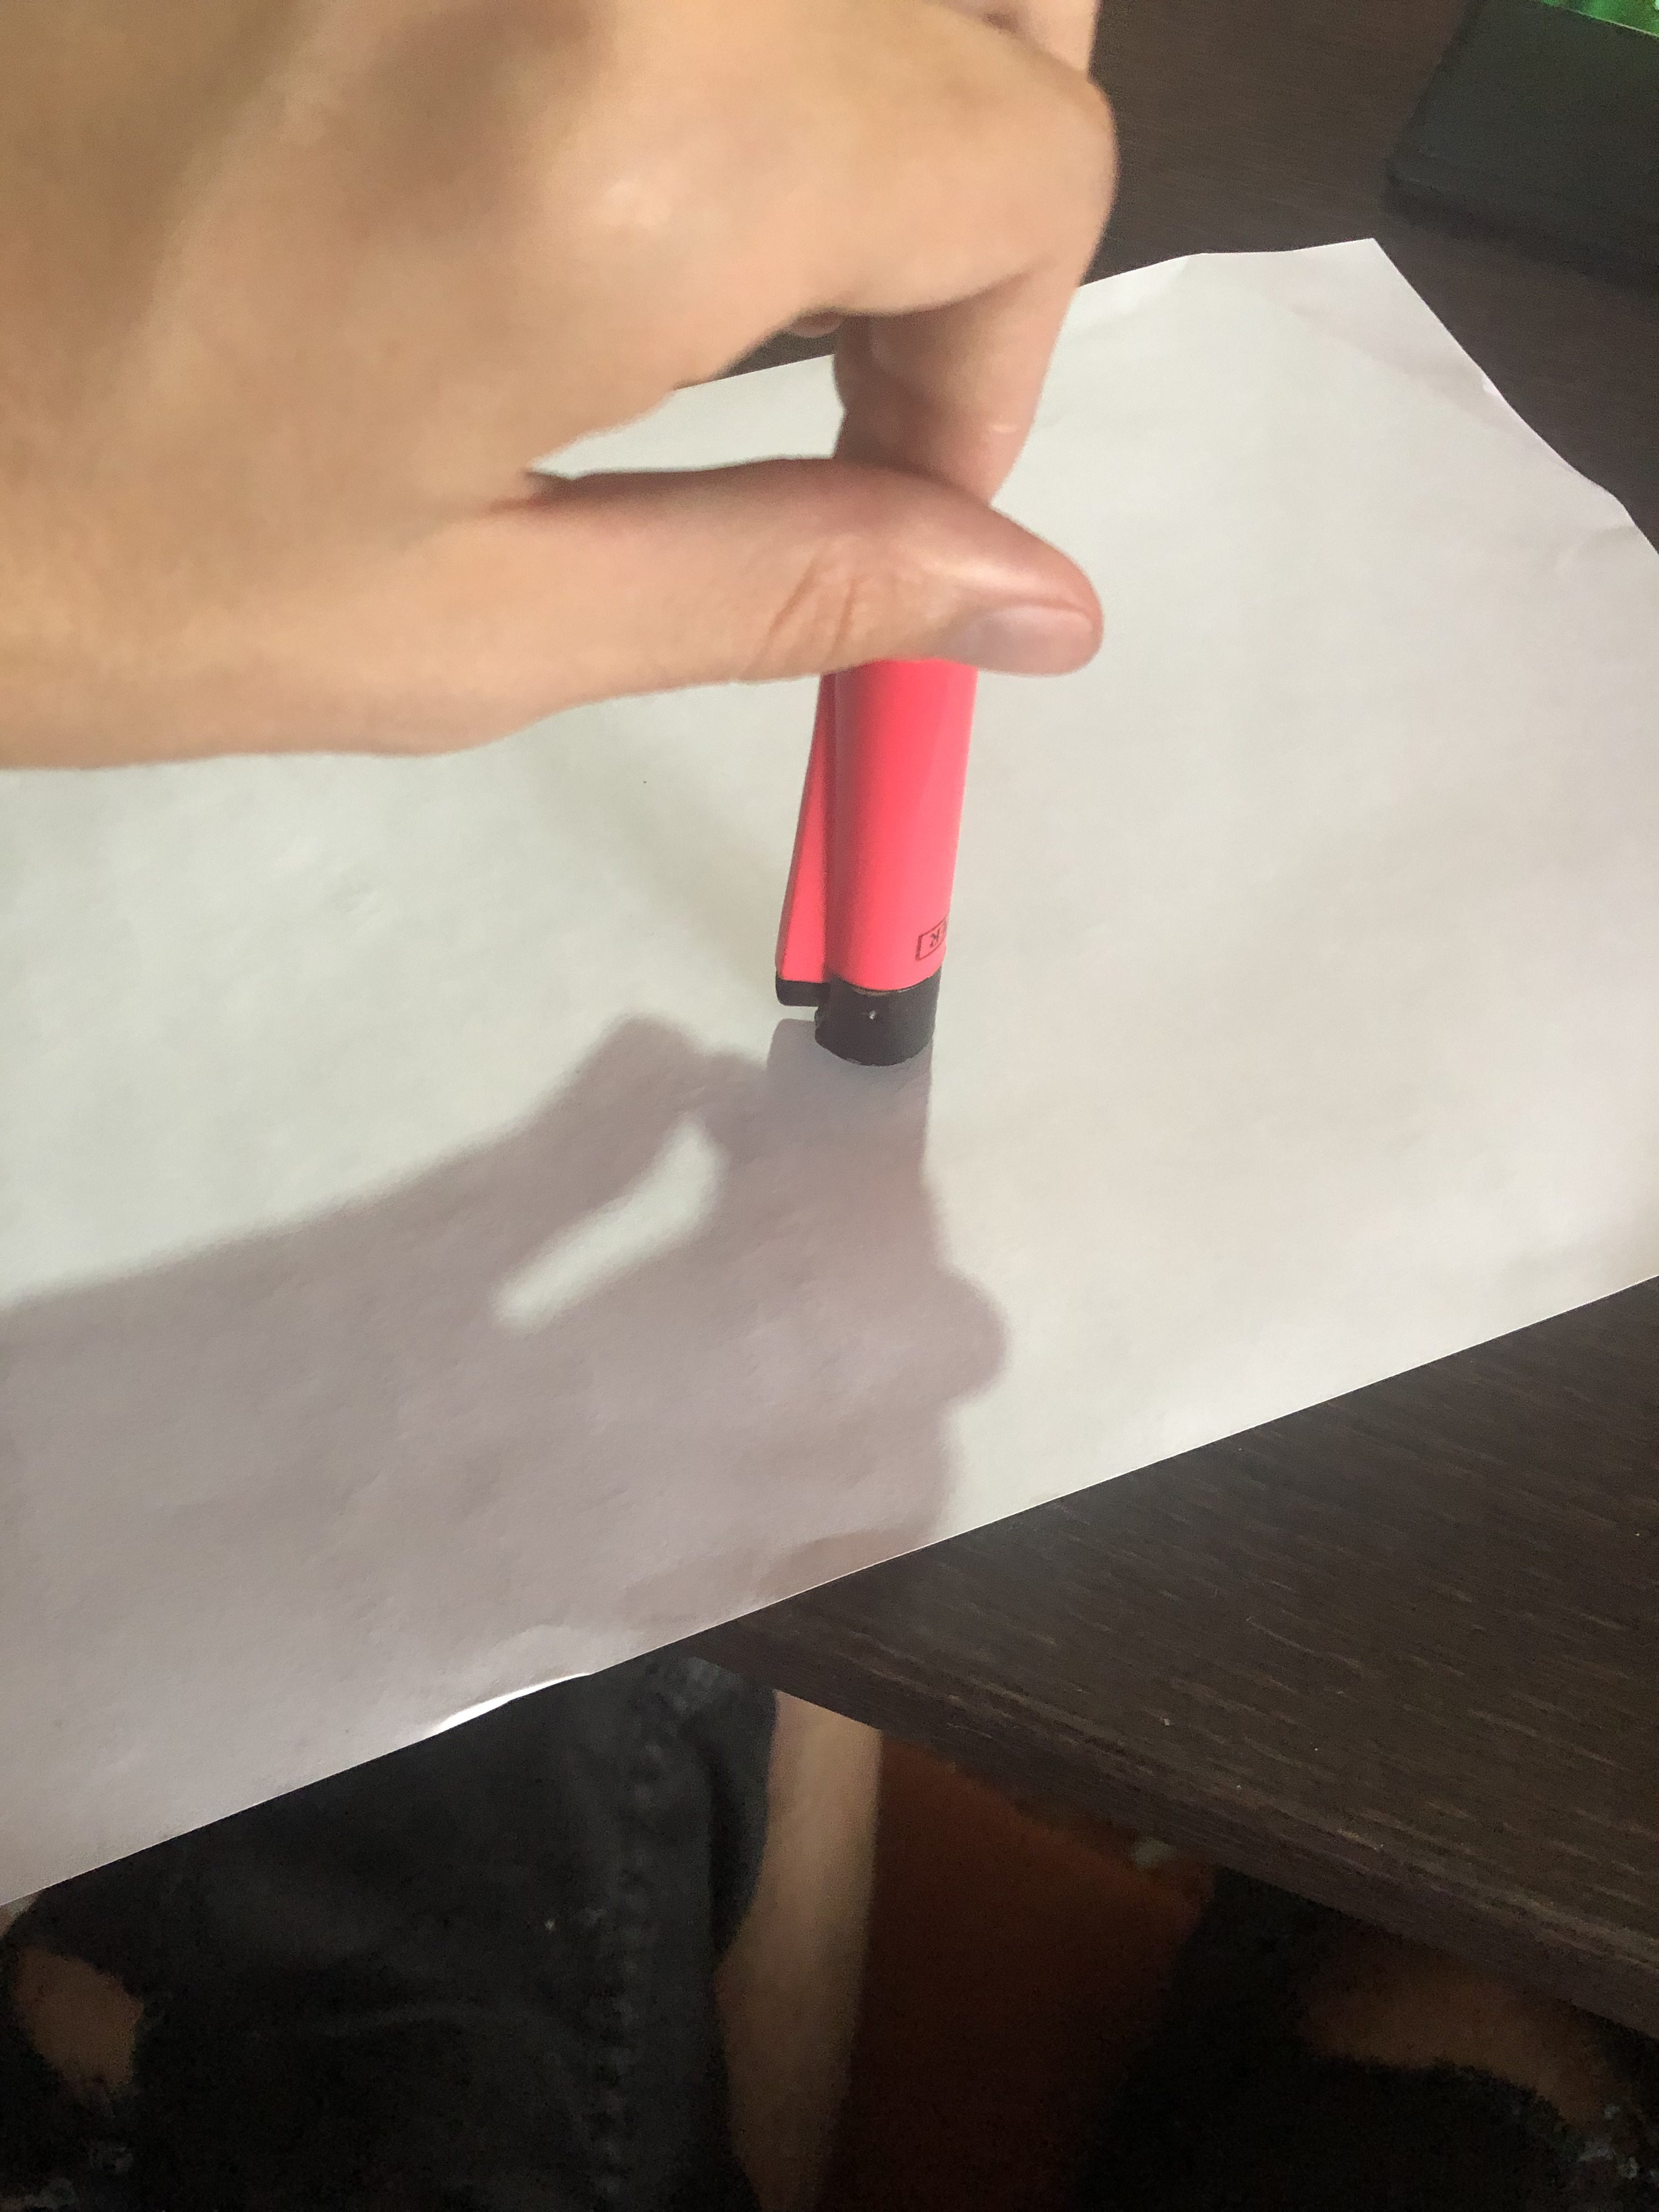Mechero: (762, 671, 1012, 1078)
